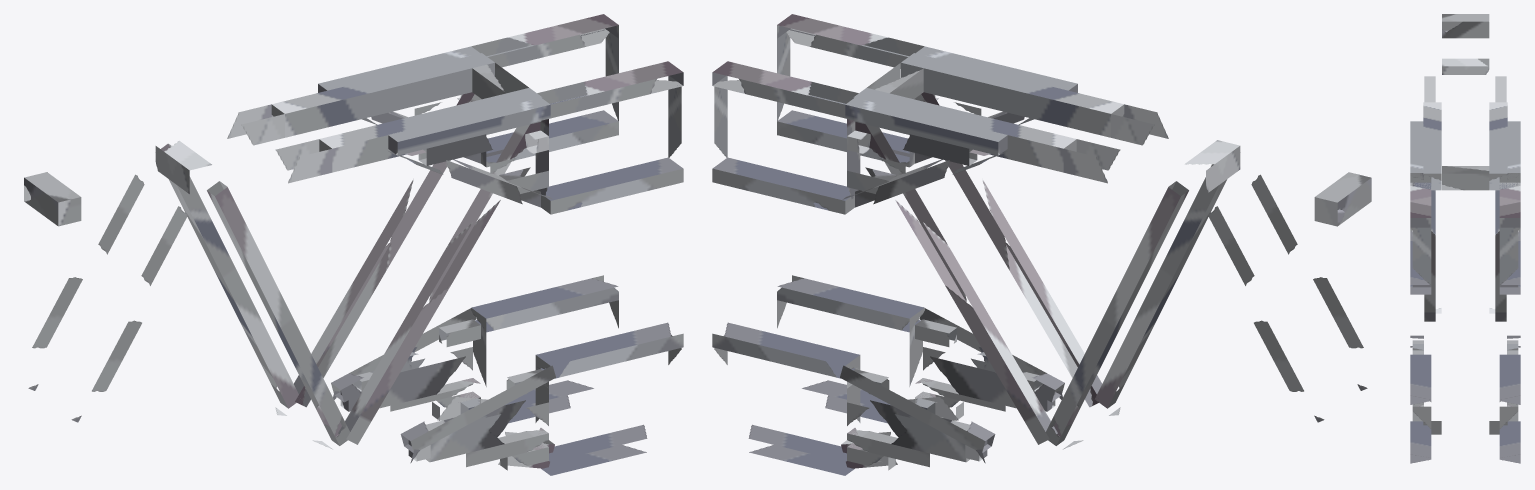
The model's file is overhead_truss_double_ad.obj.
3 views of the same model, side by side, from view 1: azimuth 30°, elevation 25°; view 2: azimuth 150°, elevation 25°; view 3: azimuth 270°, elevation 25° (orthographic). The views are drawn at different scales.
Parts seen in each view (by area): view 1: cube; view 2: cube; view 3: cube.
Boxes of the visible parts, box(x1,y1,x2,y2) form: cube: box(24, 14, 683, 475); cube: box(712, 14, 1371, 475); cube: box(1410, 14, 1520, 463).
Bounding box in the file's own units: 2.87 × 1.7 × 0.6562.
